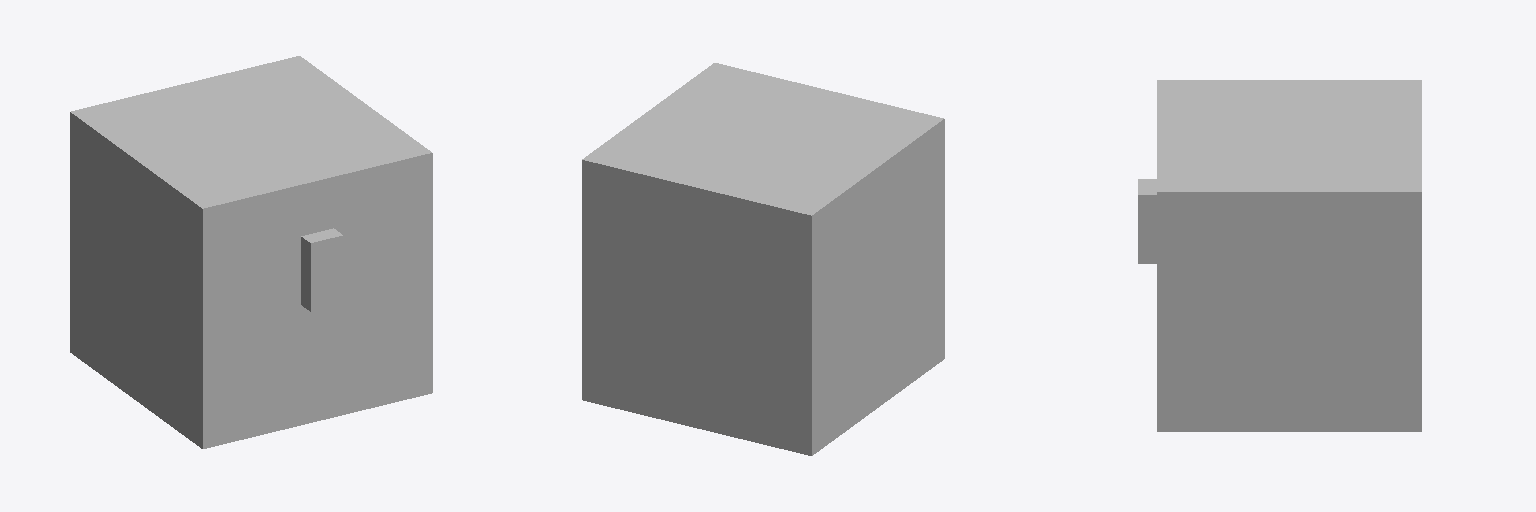
Rendered from Ender Chest.obj.
3 views of the same model, side by side, from view 1: azimuth 30°, elevation 25°; view 2: azimuth 150°, elevation 25°; view 3: azimuth 270°, elevation 25° (orthographic).
Visible parts, largest first — view 1: object 1; view 2: object 1; view 3: object 1.
Boxes of the visible parts, x1=… form: object 1: x1=70, y1=56, x2=432, y2=448; object 1: x1=582, y1=63, x2=944, y2=455; object 1: x1=1138, y1=80, x2=1421, y2=431.
Bounding box in the file's own units: 1.4 × 1.4 × 1.5.